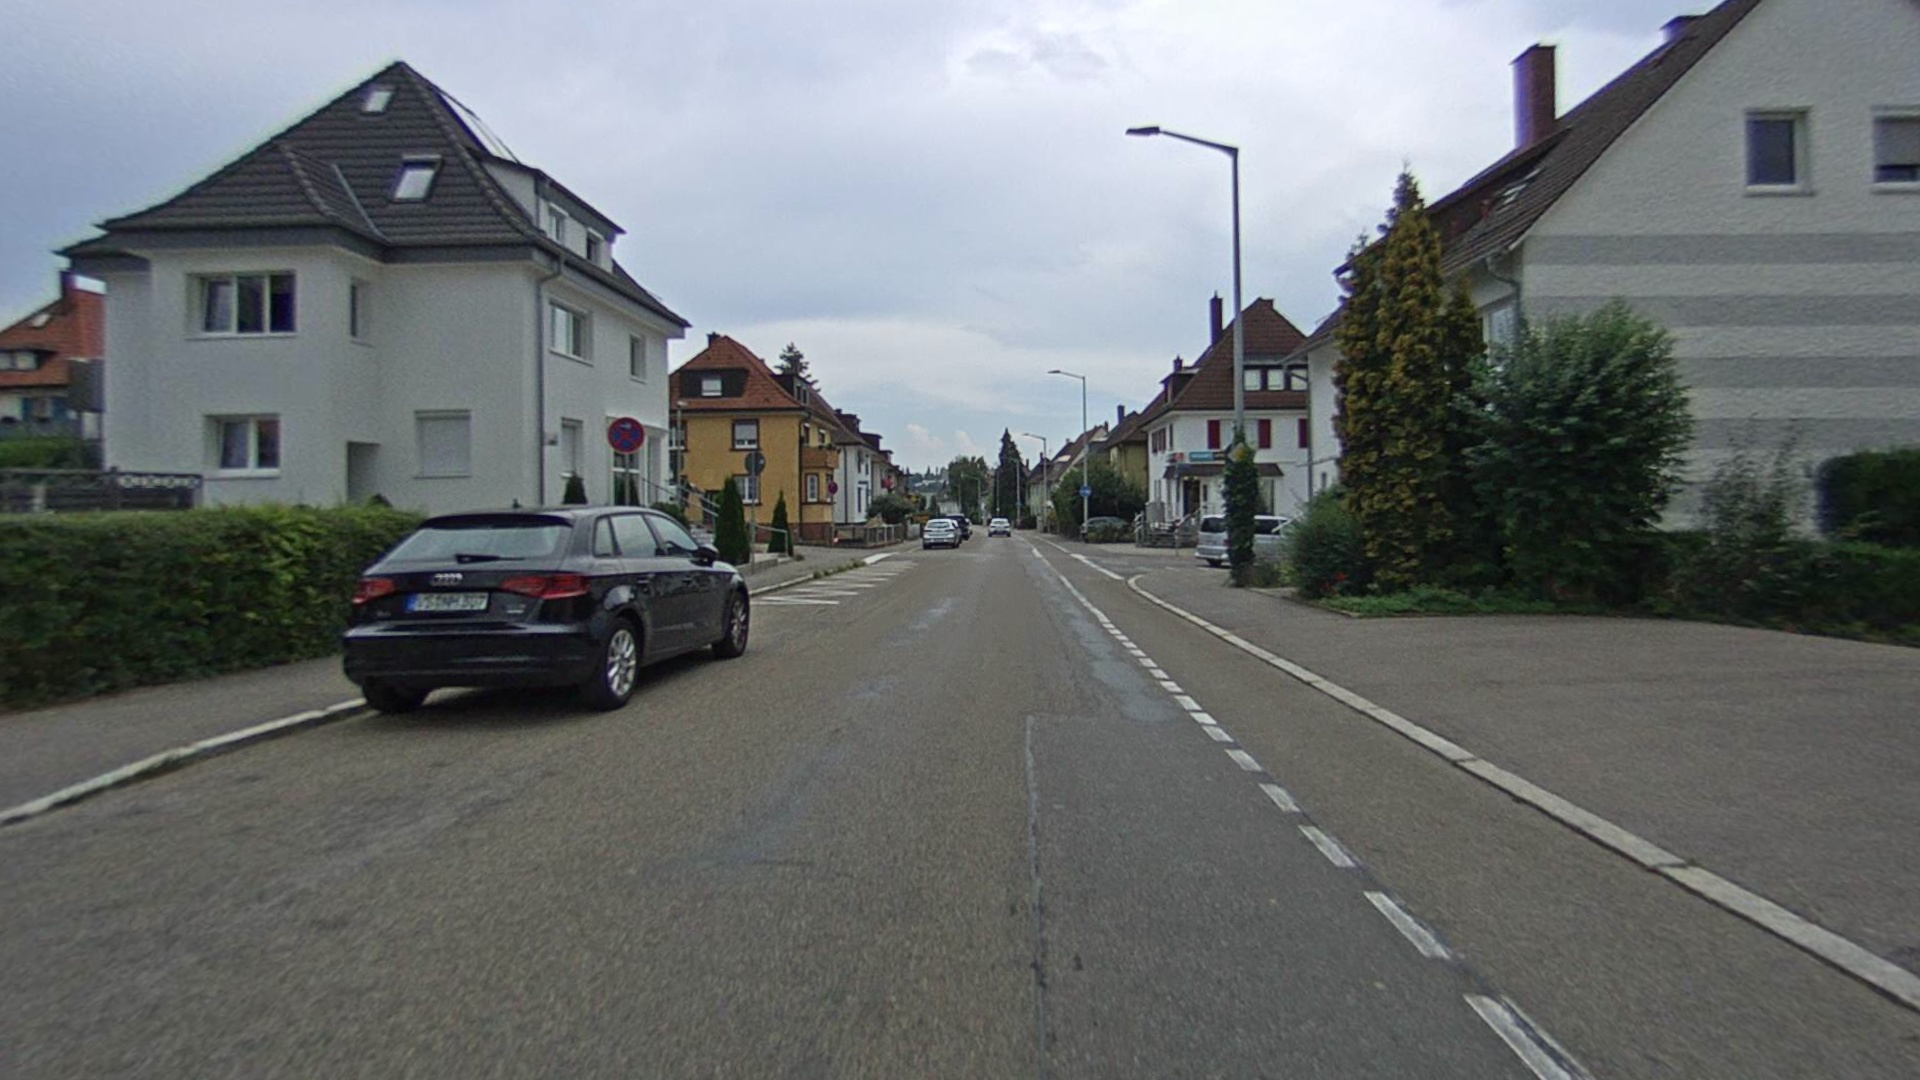car: (340, 502, 753, 713)
